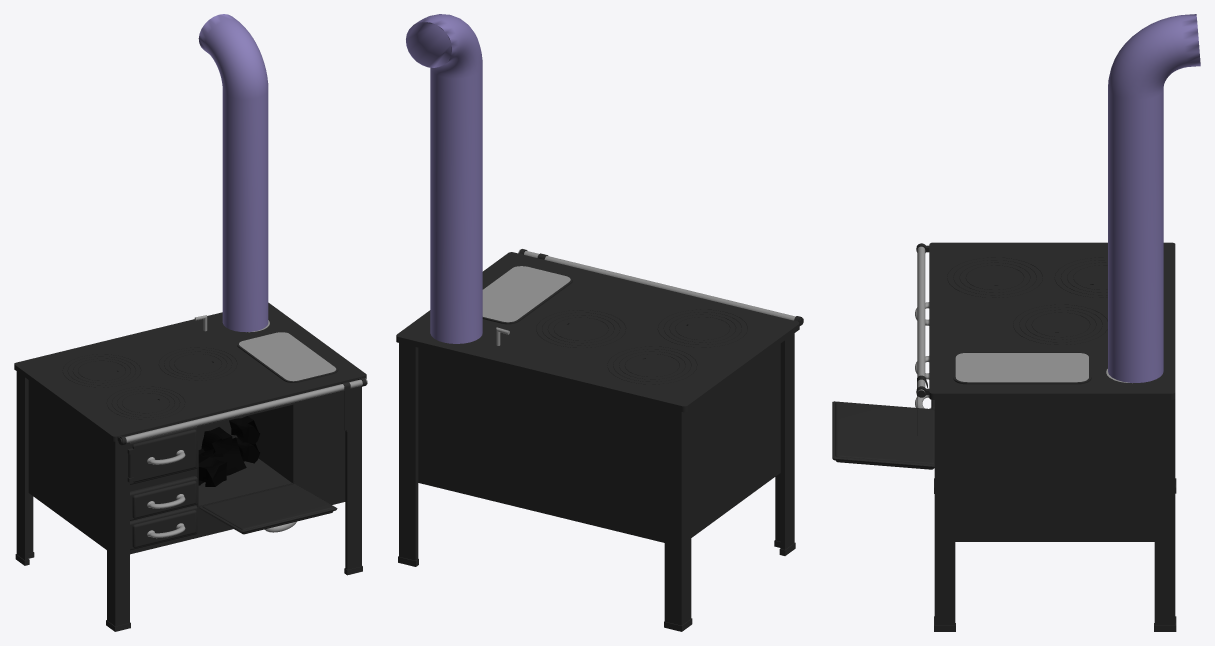
Rendered from Stove.FBX.
3 views of the same model, side by side, from view 1: azimuth 30°, elevation 25°; view 2: azimuth 150°, elevation 25°; view 3: azimuth 270°, elevation 25° (orthographic). The views are drawn at different scales.
Visible parts, largest first — view 1: Oven, Smoke, Box001, Deckel, Coal001; view 2: Oven, Smoke; view 3: Oven, Smoke, Deckel.
Part boxes in pixels (x1,y1,x2,y2): Oven: (14, 302, 367, 631); Smoke: (198, 14, 268, 332); Box001: (197, 403, 294, 507); Deckel: (199, 484, 337, 534); Coal001: (198, 416, 260, 486); Oven: (396, 249, 803, 631); Smoke: (406, 14, 482, 343); Oven: (915, 242, 1176, 631); Smoke: (1108, 14, 1200, 382); Deckel: (832, 401, 934, 469).
Size of the model in its own units: 121 by 222 by 125.
